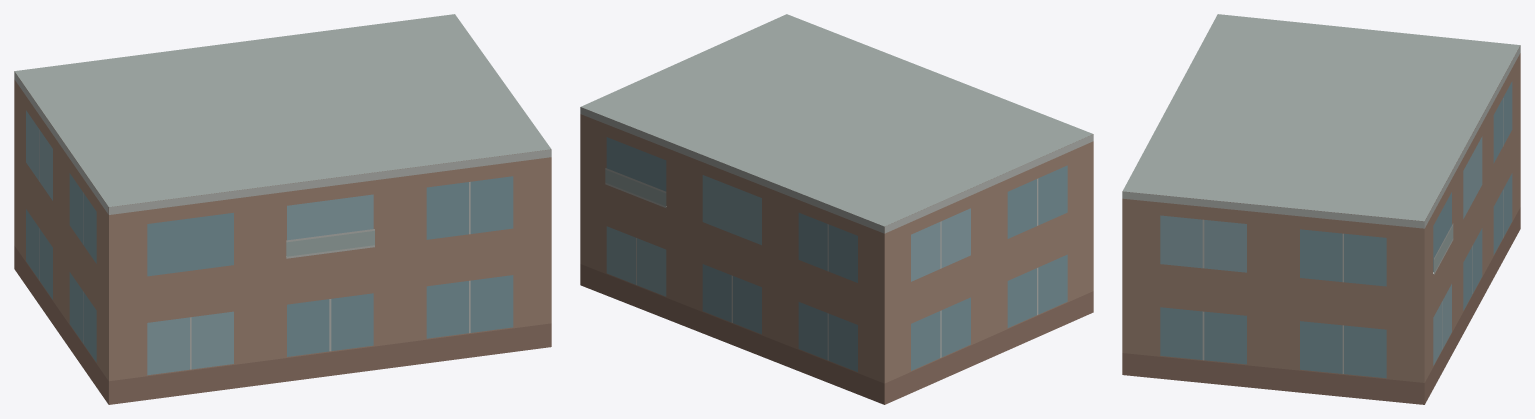
Rendered from survey-upis-32707090.glb.
3 views of the same model, side by side, from view 1: azimuth 30°, elevation 25°; view 2: azimuth 150°, elevation 25°; view 3: azimuth 270°, elevation 25° (orthographic). The views are drawn at different scales.
Parts seen in each view (by area): view 1: survey-upis-32707090.tmp; view 2: survey-upis-32707090.tmp; view 3: survey-upis-32707090.tmp.
Boxes of the visible parts, x1=… form: survey-upis-32707090.tmp: x1=14, y1=14, x2=551, y2=404; survey-upis-32707090.tmp: x1=580, y1=14, x2=1093, y2=404; survey-upis-32707090.tmp: x1=1122, y1=14, x2=1520, y2=404.
Size of the model in its own units: 14.78 by 6.1 by 12.
